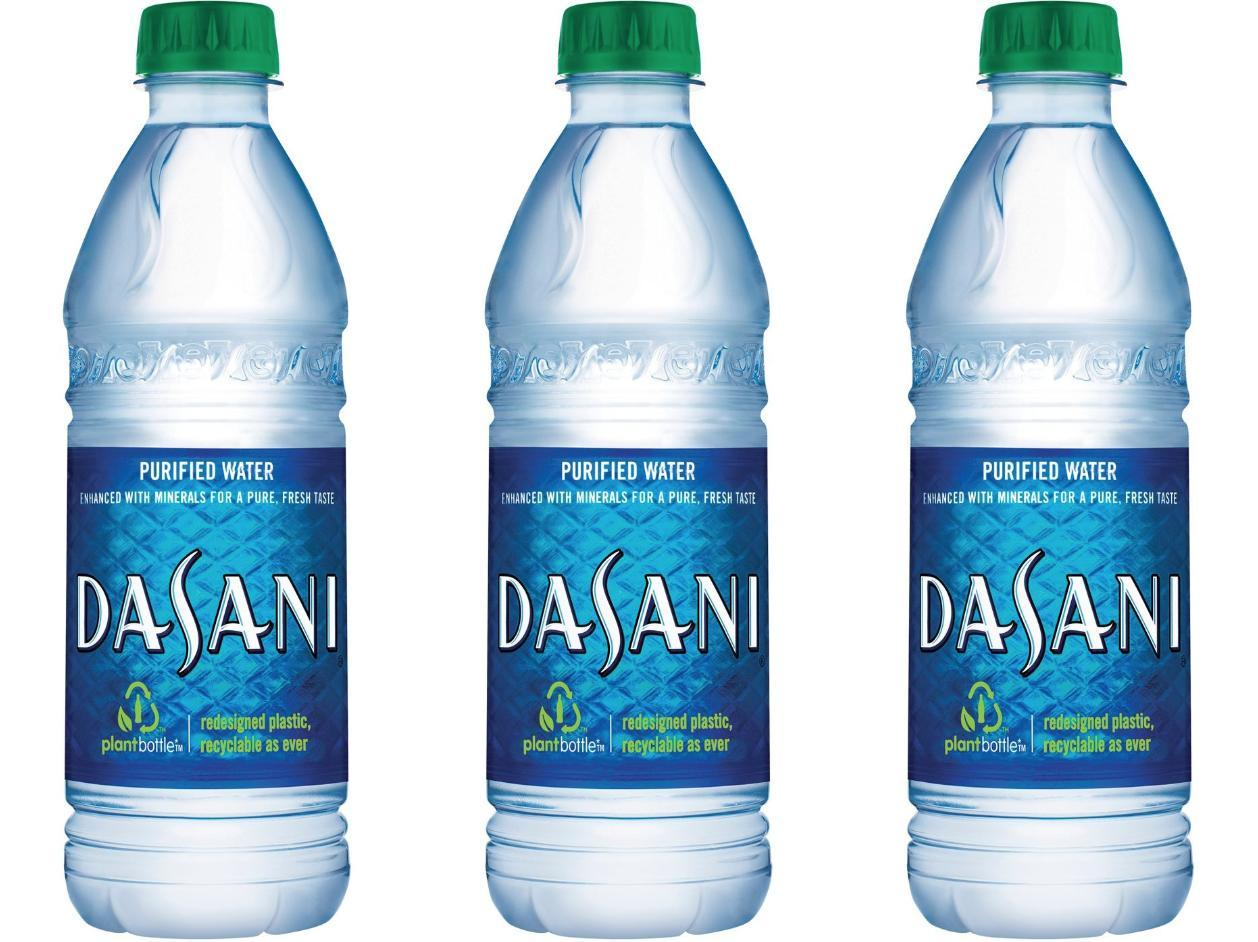bottle: (476, 0, 775, 941), (62, 0, 349, 942), (908, 0, 1193, 936)
